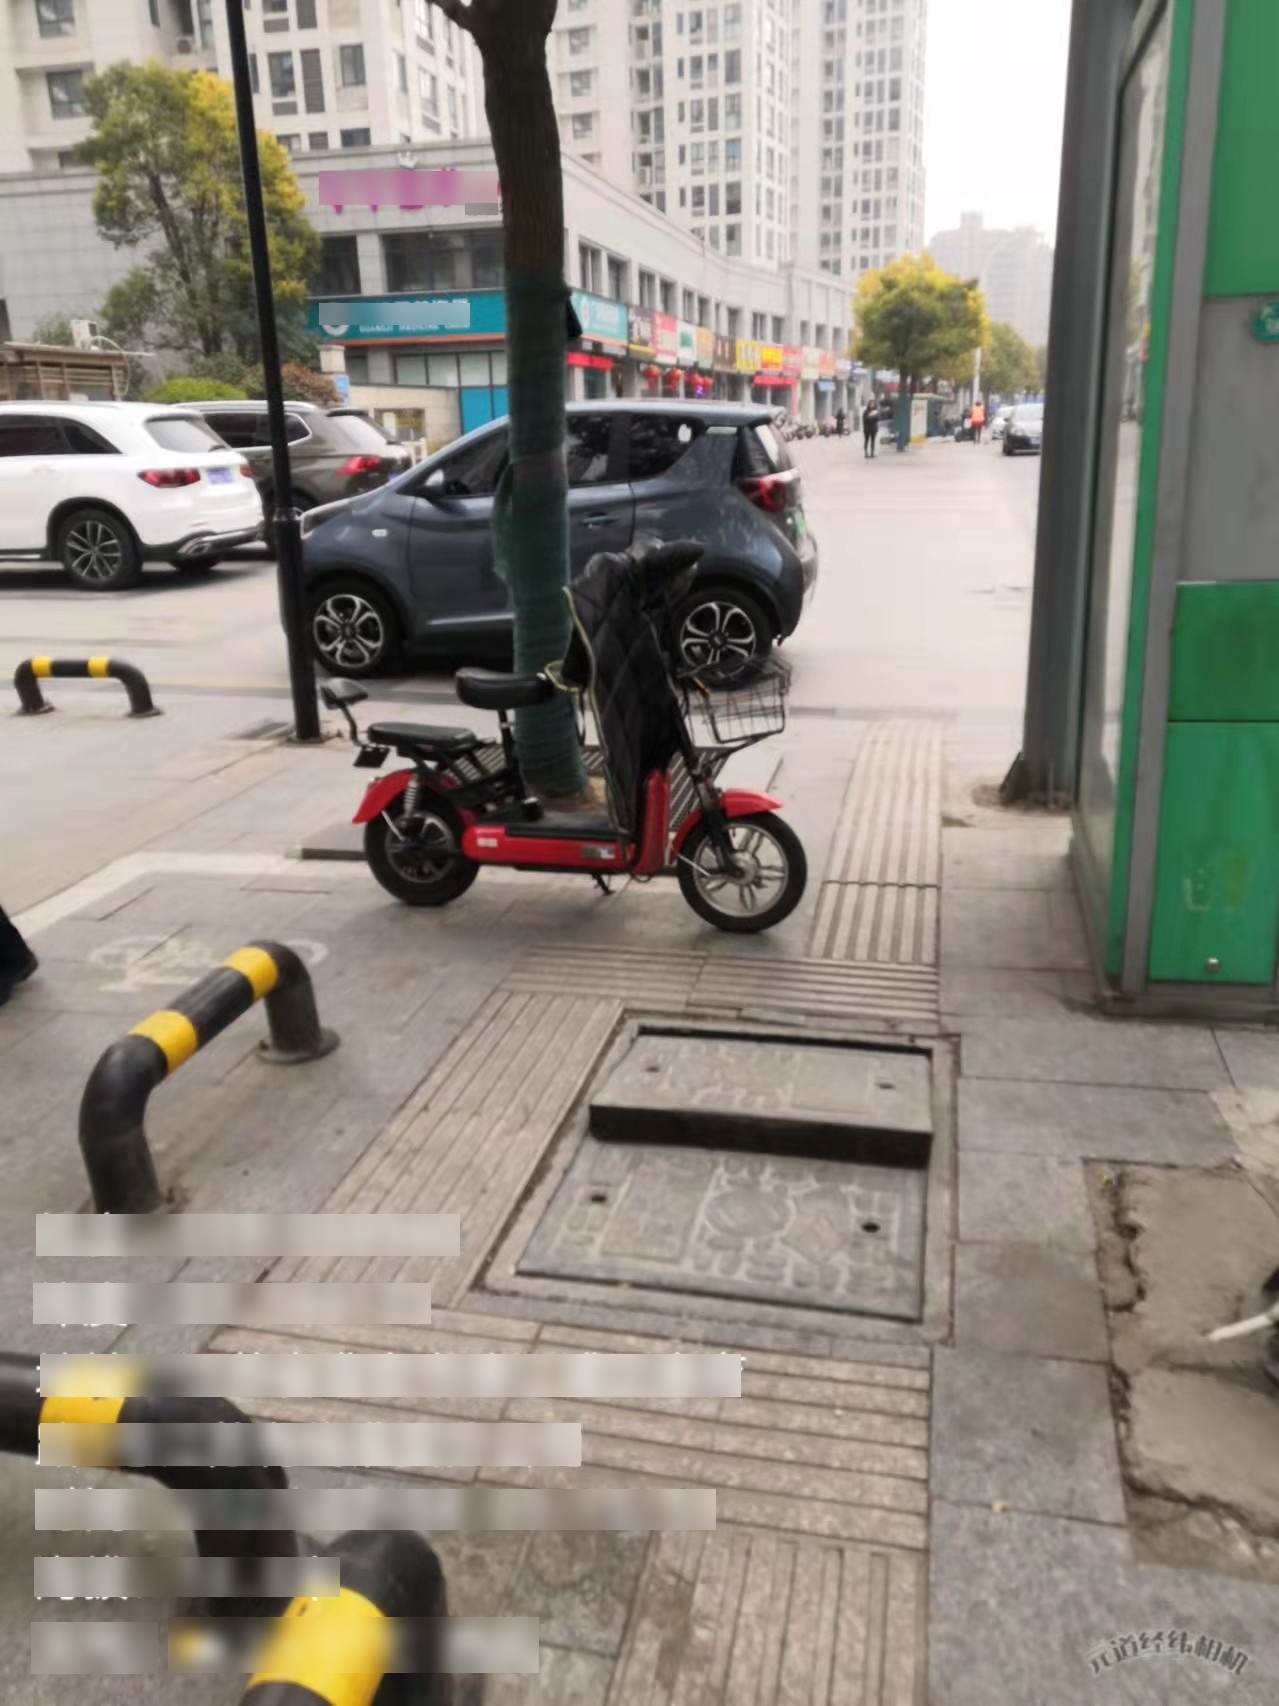uncovered: (468, 1016, 958, 1350)
